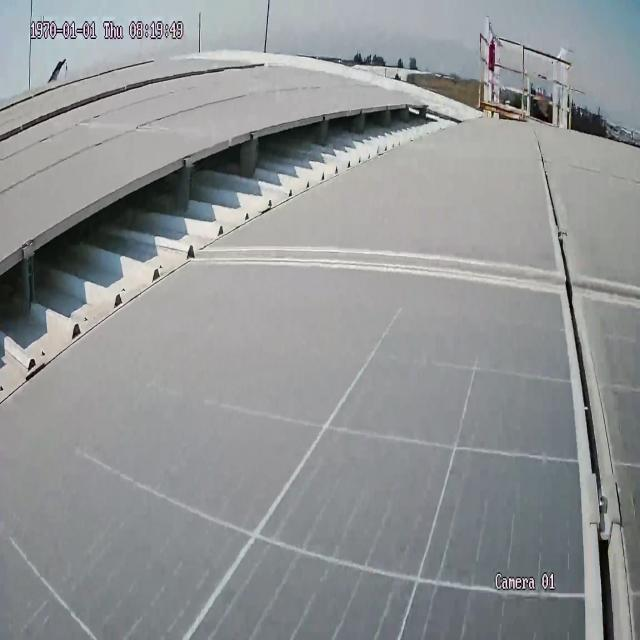interior panel: (207, 137, 639, 634)
outher panel: (0, 104, 475, 404)
